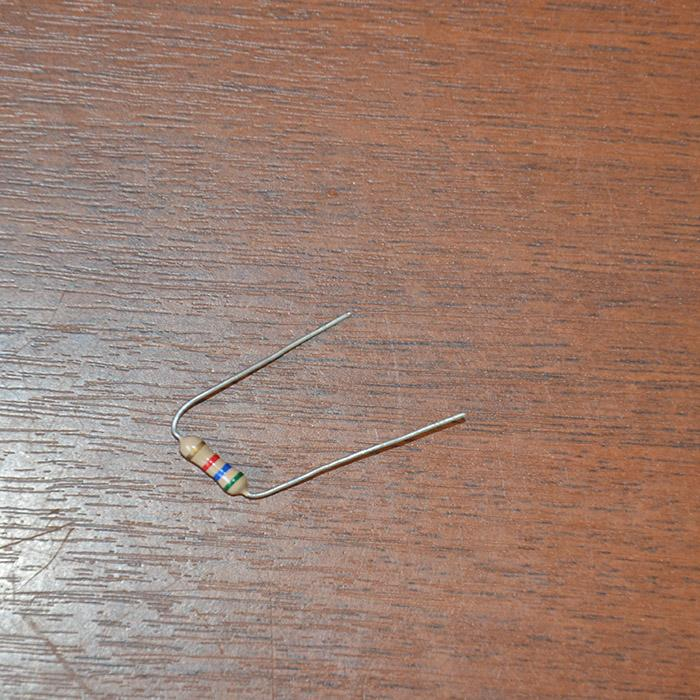resistor: (182, 435, 249, 496)
